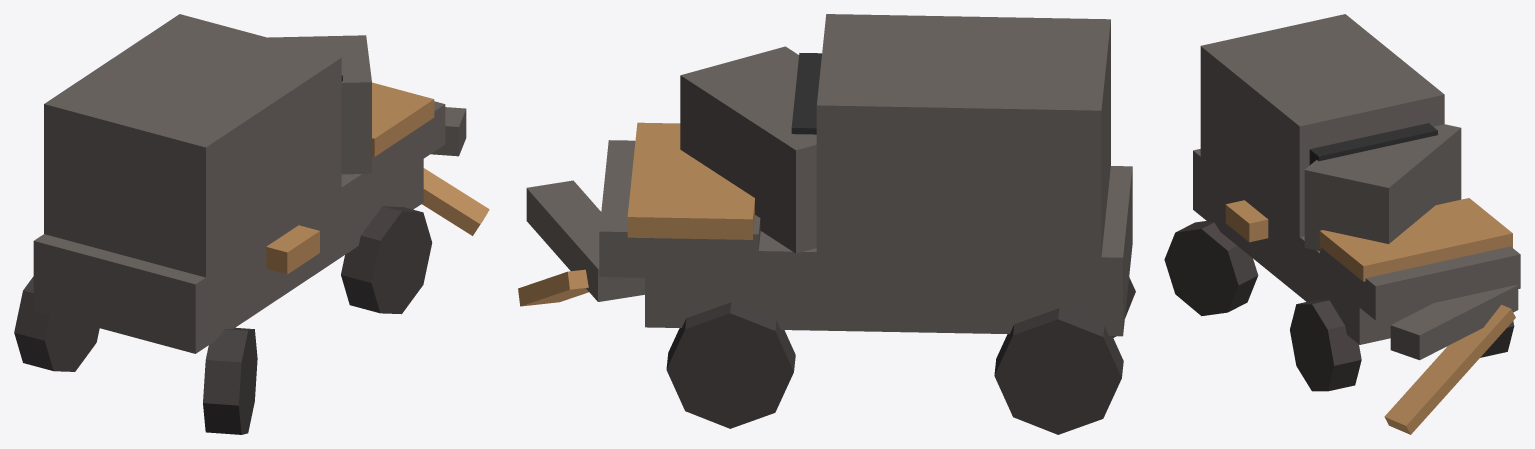
The model's file is prop_wreck_car.glb.
3 renders of one model, left to right at view 1: azimuth 30°, elevation 25°; view 2: azimuth 150°, elevation 25°; view 3: azimuth 270°, elevation 25°, orthographic. The views are drawn at different scales.
Visible parts, largest first — view 1: wreck_car; view 2: wreck_car; view 3: wreck_car.
Boxes of the visible parts, bbox=[...] form: wreck_car: bbox=[14, 14, 489, 434]; wreck_car: bbox=[518, 14, 1135, 434]; wreck_car: bbox=[1164, 14, 1520, 434].
Bounding box in the file's own units: 2.89 × 1.62 × 2.07.
